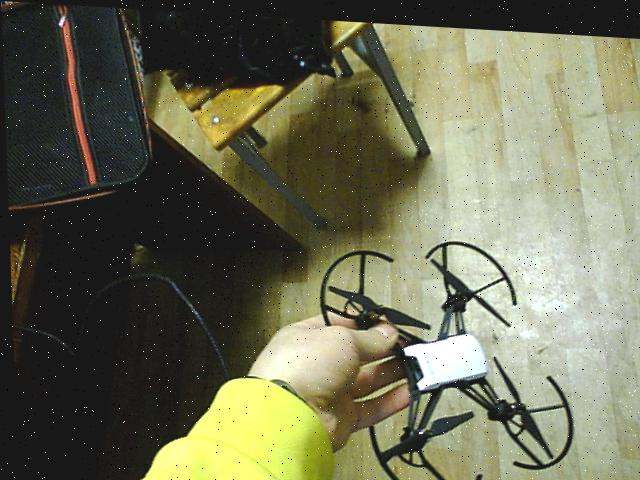drone: (314, 224, 580, 480)
